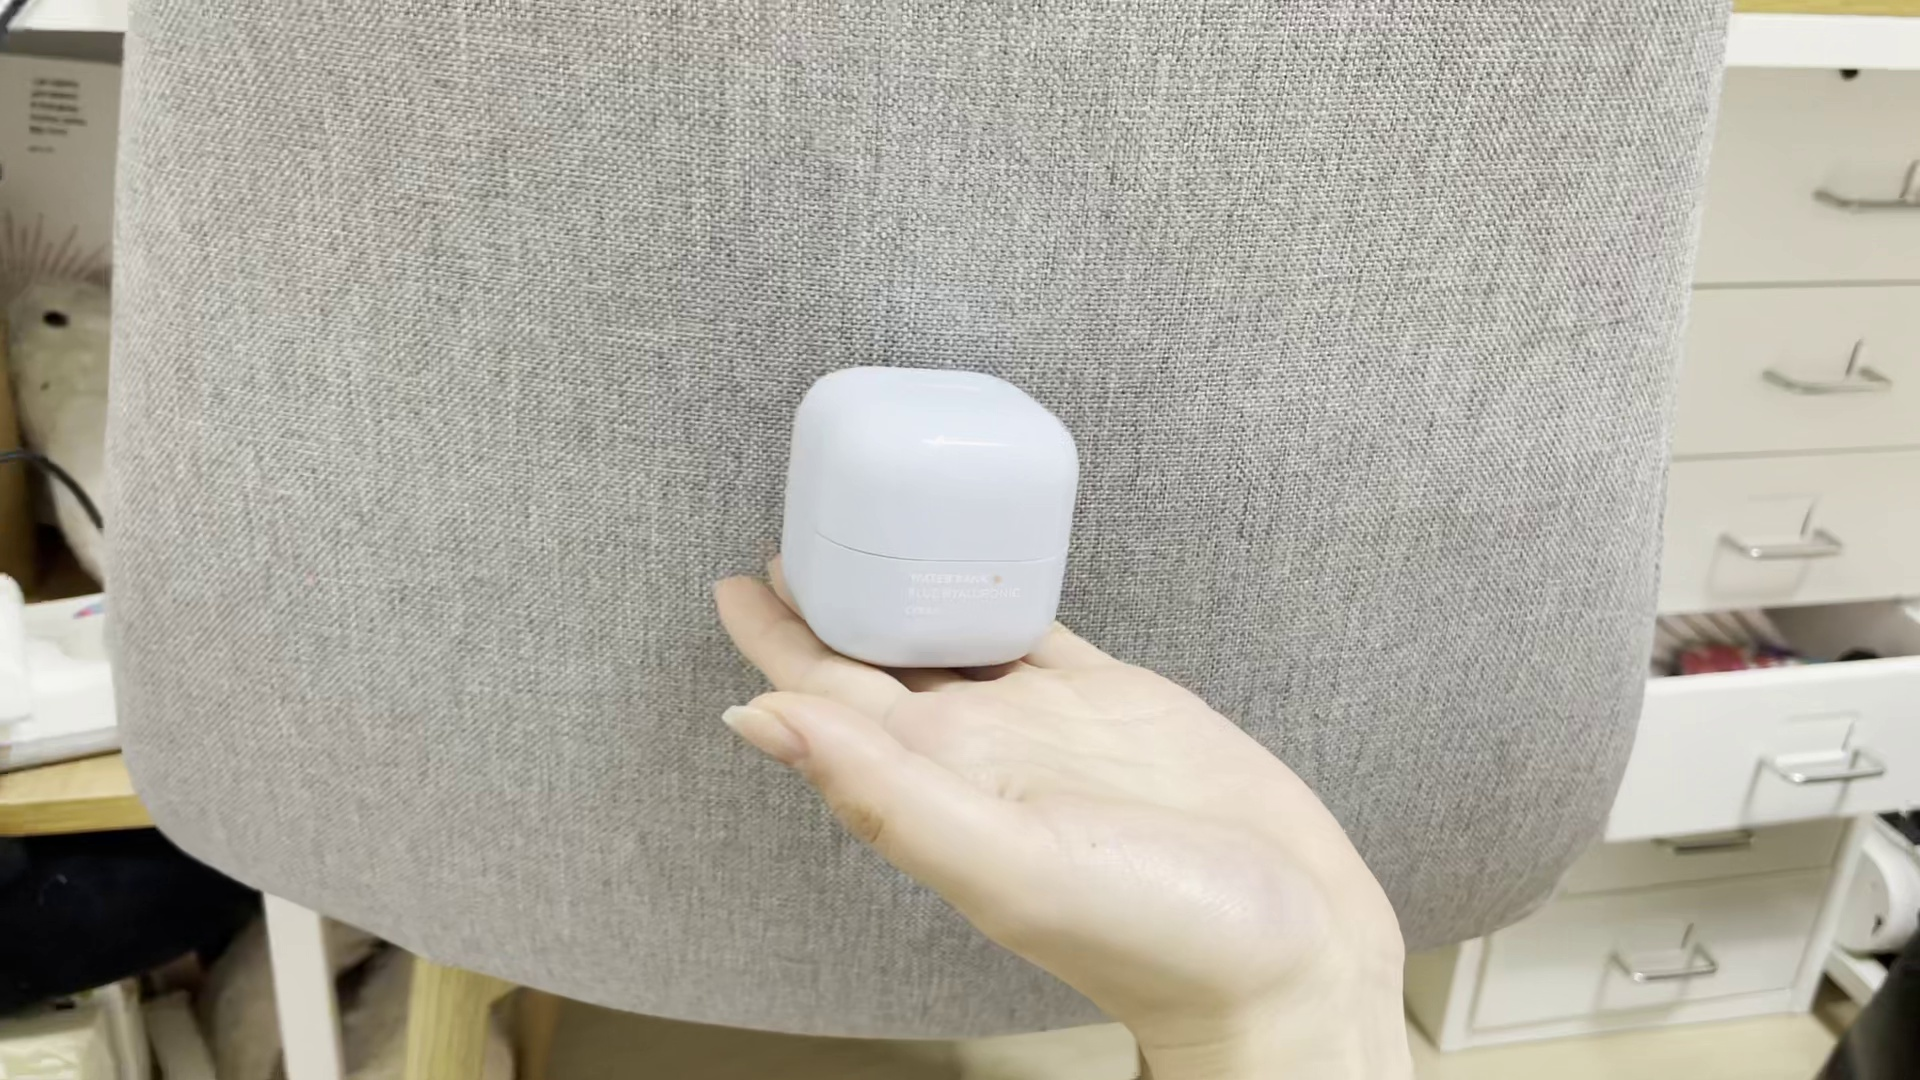cream: (786, 364, 1076, 670)
